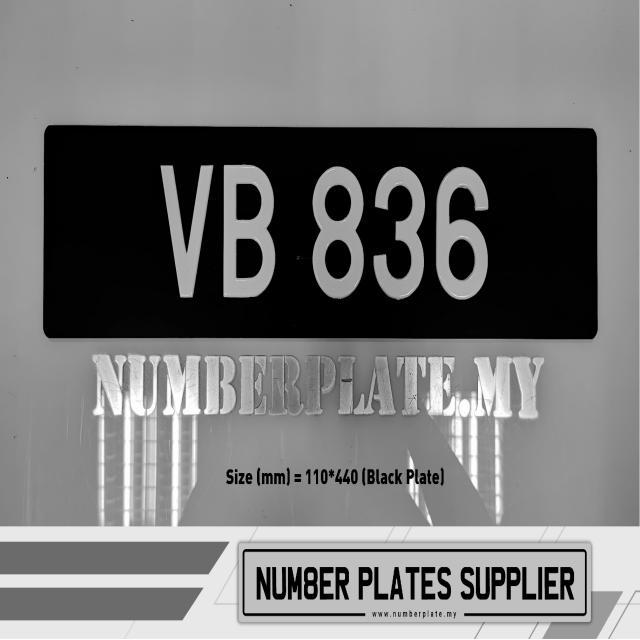car-plate: (41, 123, 598, 341)
